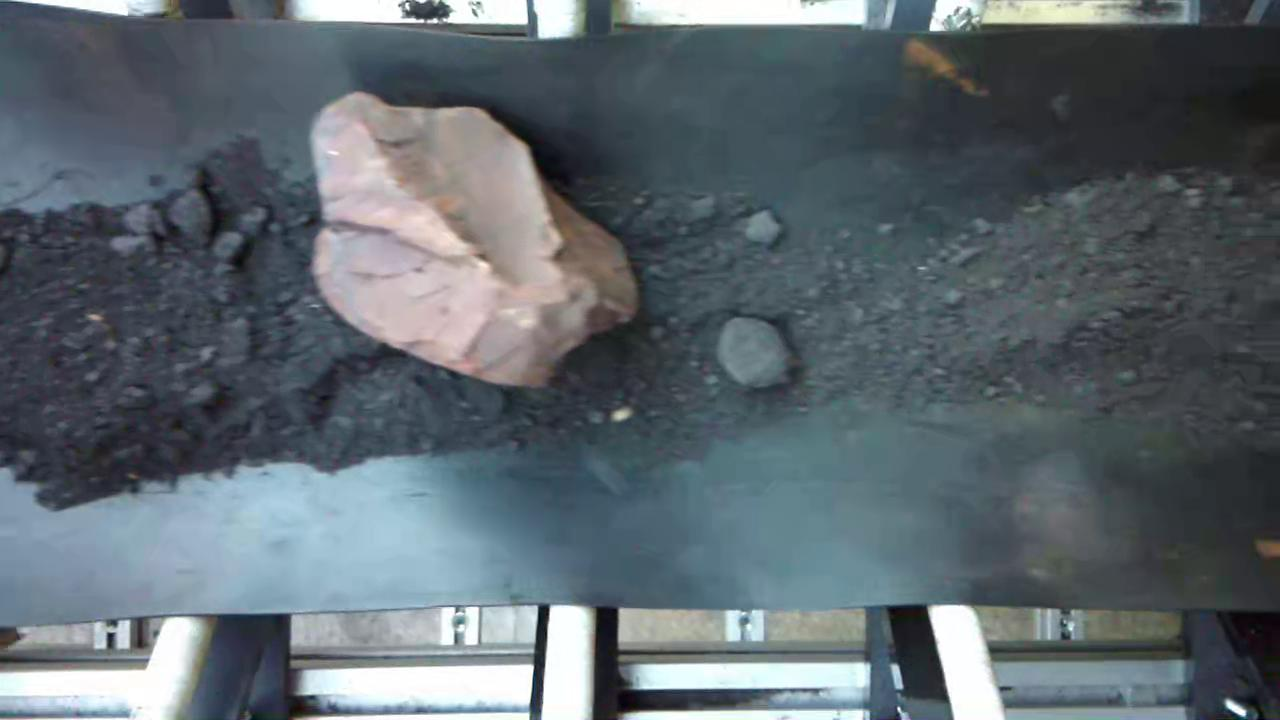conveyor: (1, 35, 1280, 595)
